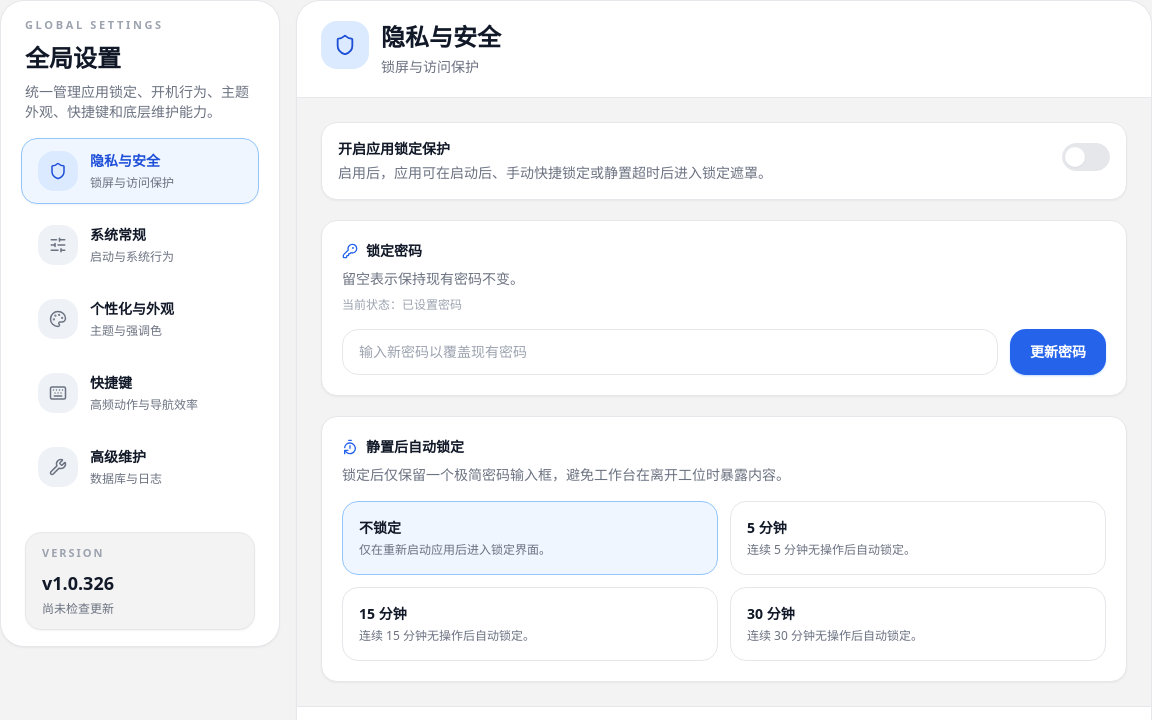
Test: checks for updates and downloads the available release in settings
Check: the text "v1.0.326" is shown, box [42, 571, 114, 595]
Click the button "高级维护 数据库与日志" at (140, 466), box [21, 434, 259, 500]
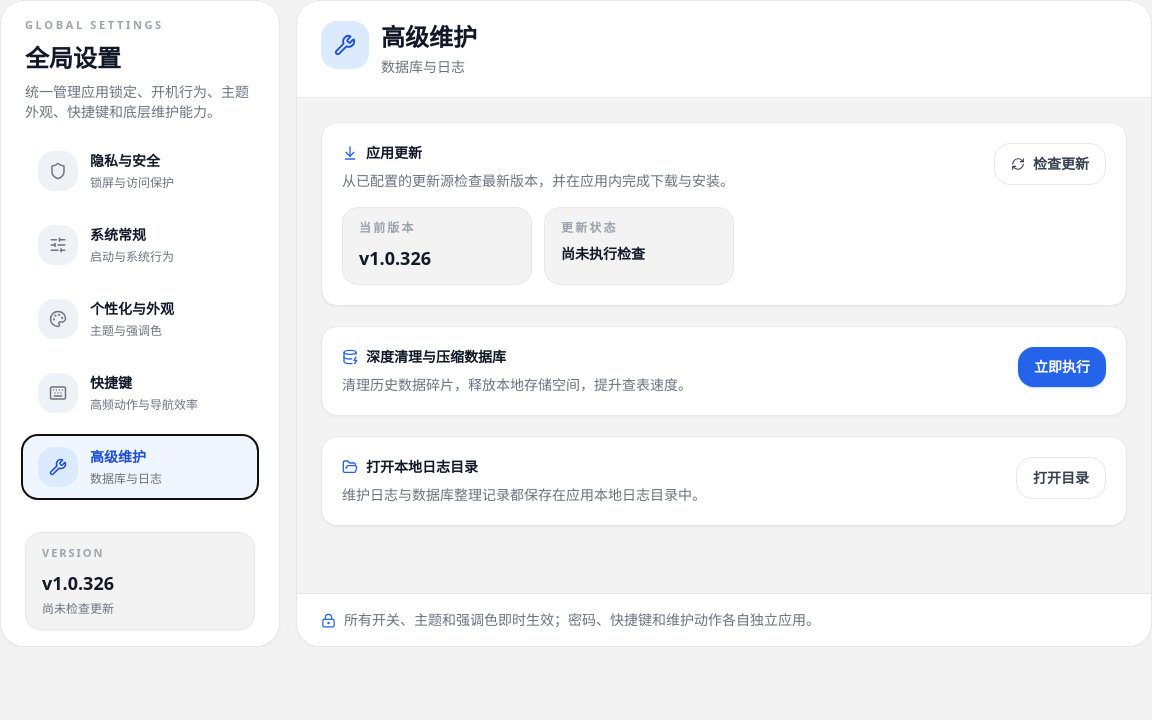
Click the button "检查更新" at (1050, 164), box [994, 143, 1106, 185]
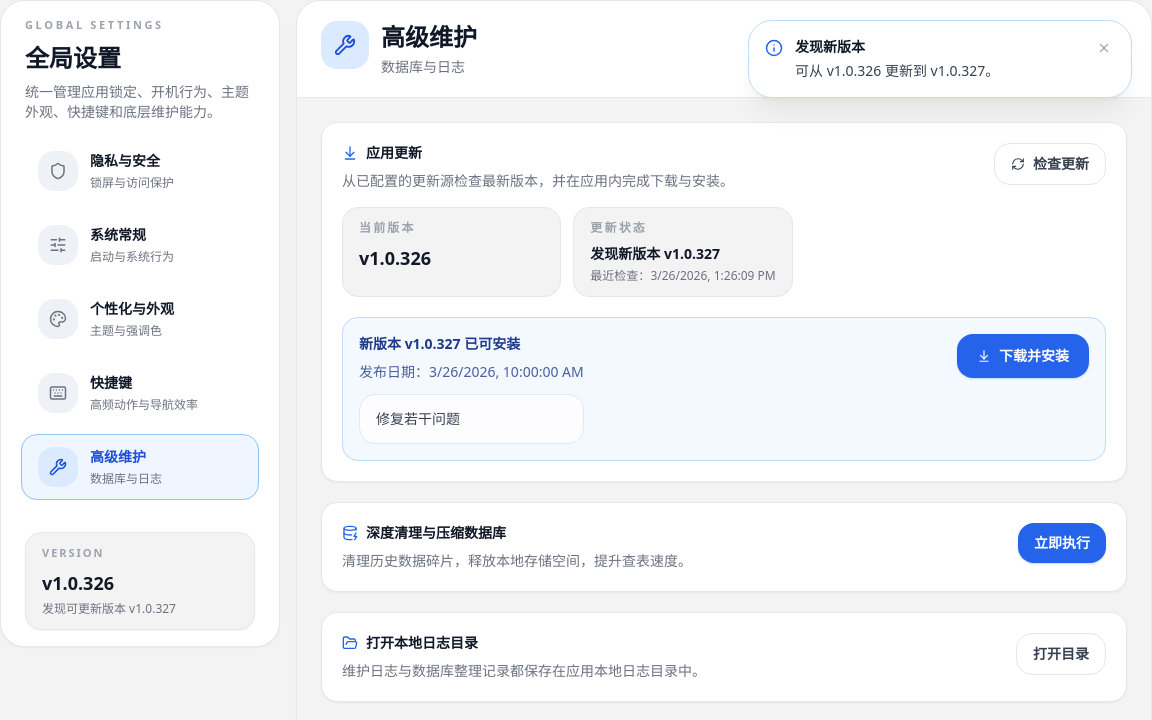
Check: the text "新版本 v1.0.327 已可安装" is shown, box [359, 334, 520, 353]
Check: the text "修复若干问题" is shown, box [359, 394, 584, 444]
Click the button "下载并安装" at (1023, 356), box [957, 334, 1089, 378]
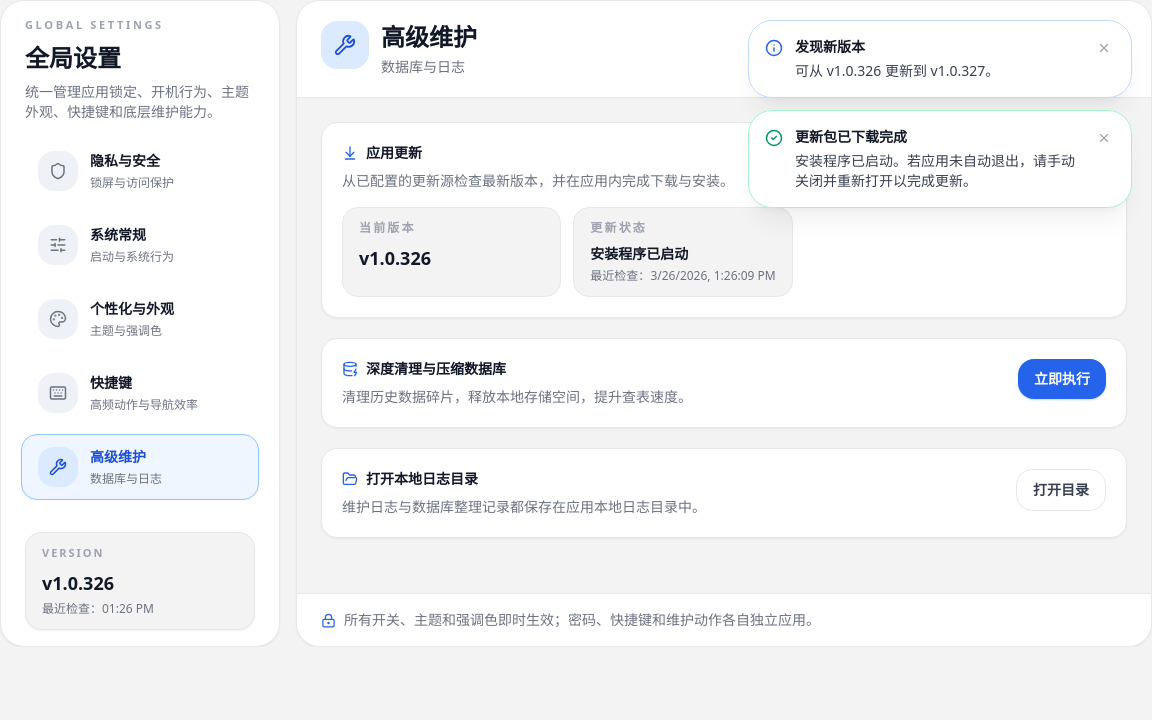
Check: the text "更新包已下载完成" is shown, box [795, 127, 907, 146]
